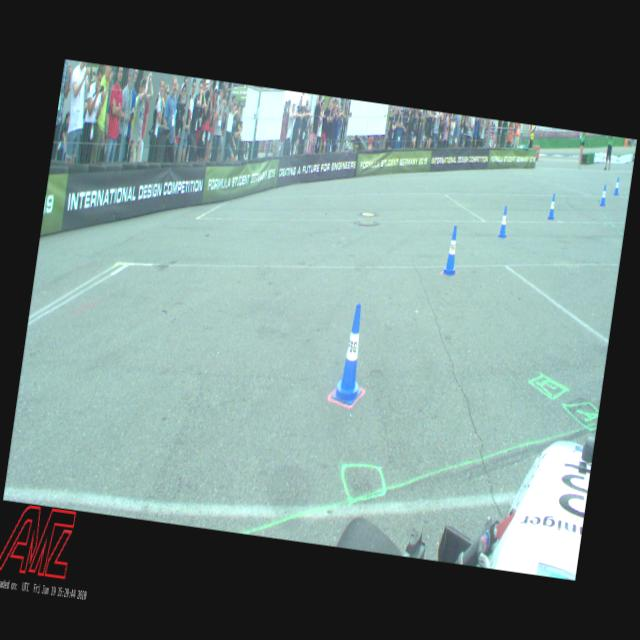blue_cone: (332, 300, 372, 406), (442, 226, 462, 277), (498, 205, 510, 238), (548, 193, 558, 220), (600, 184, 608, 207), (614, 177, 620, 196)
